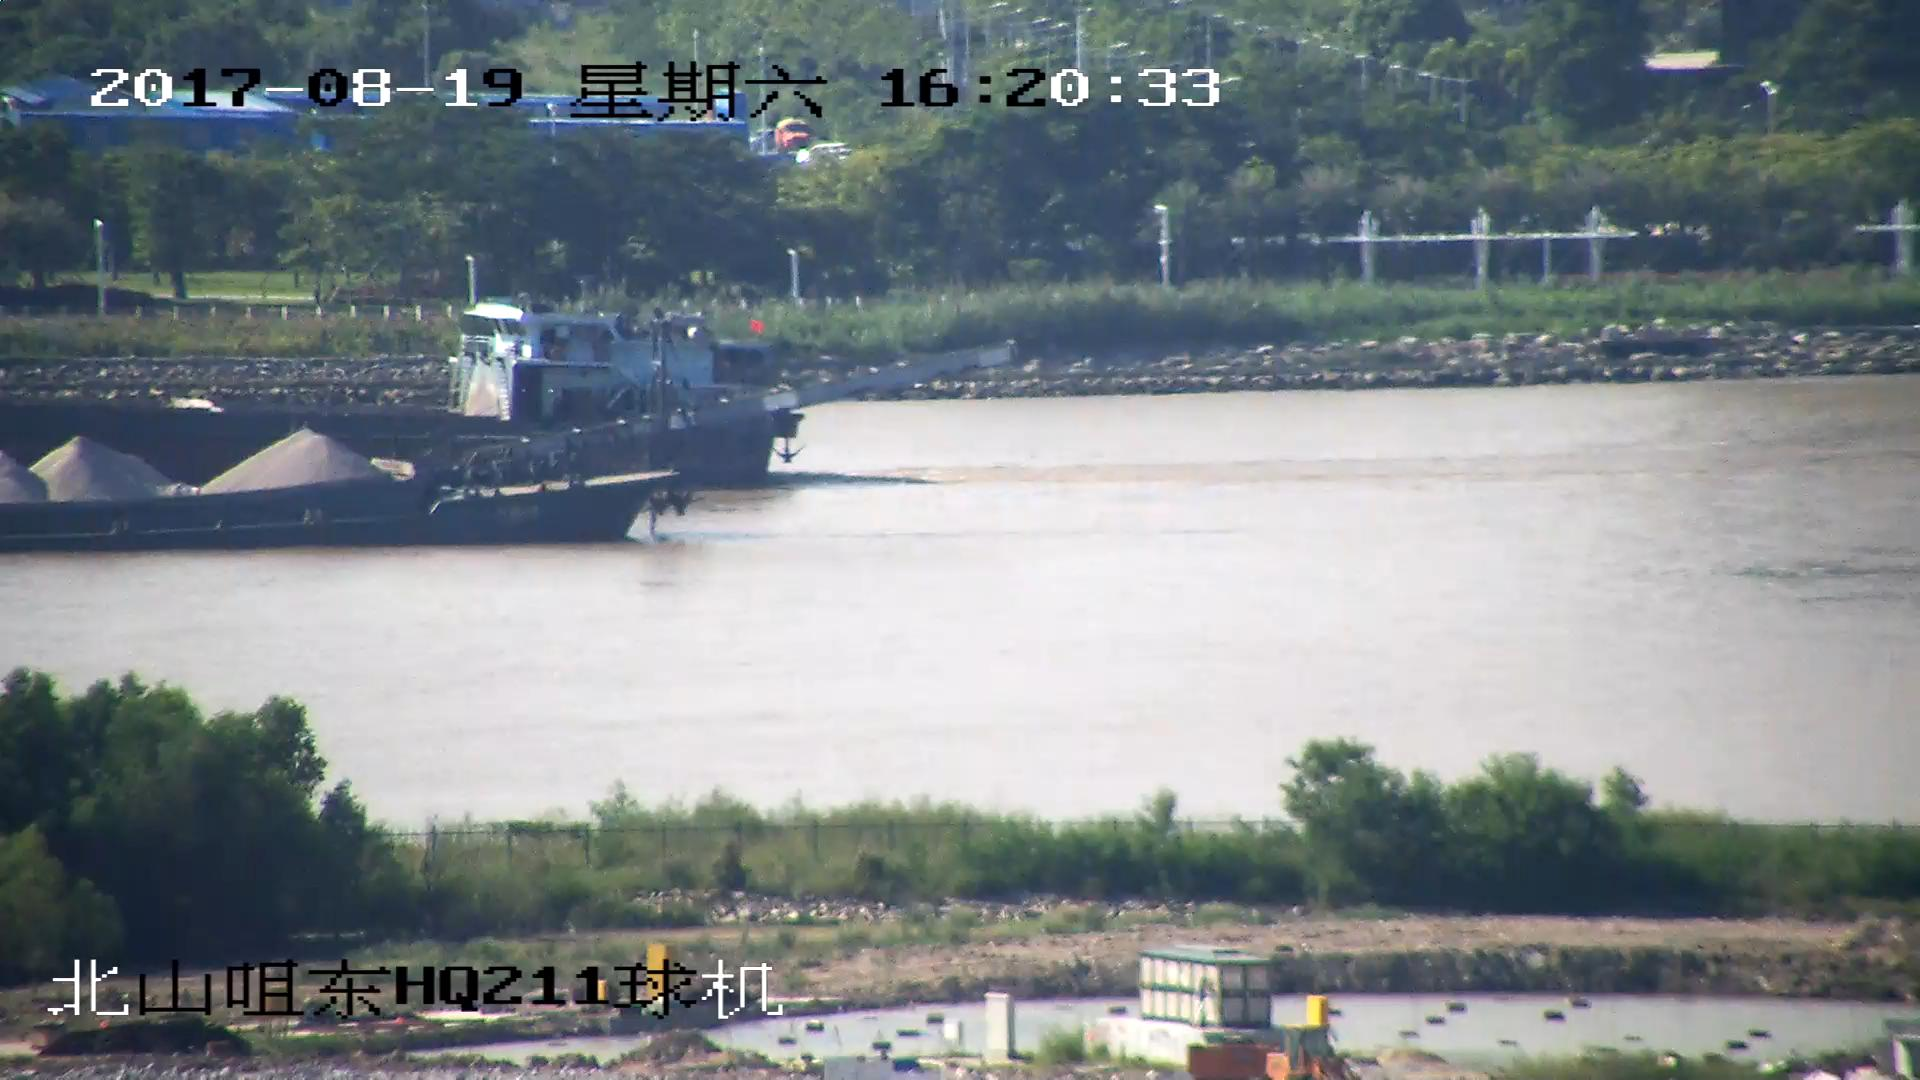bulk cargo carrier: (1, 305, 790, 482)
ore carrier: (1, 350, 1013, 556)
